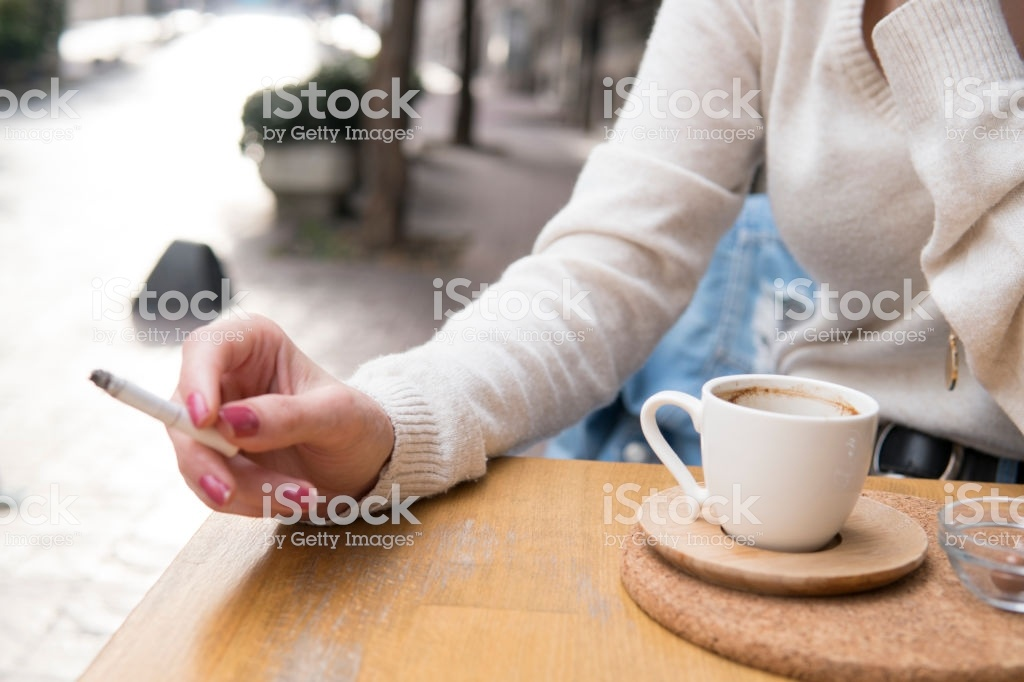sigaretta: (90, 365, 241, 451)
